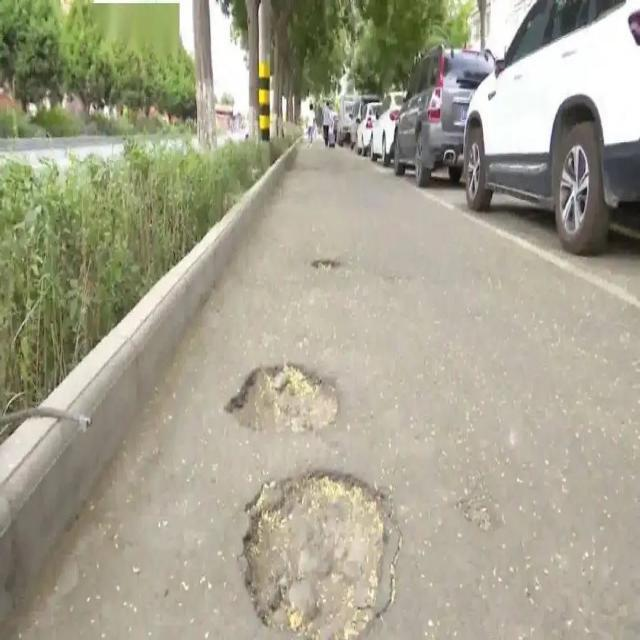Buraco: (238, 467, 402, 640), (220, 360, 346, 438), (311, 258, 343, 274)
